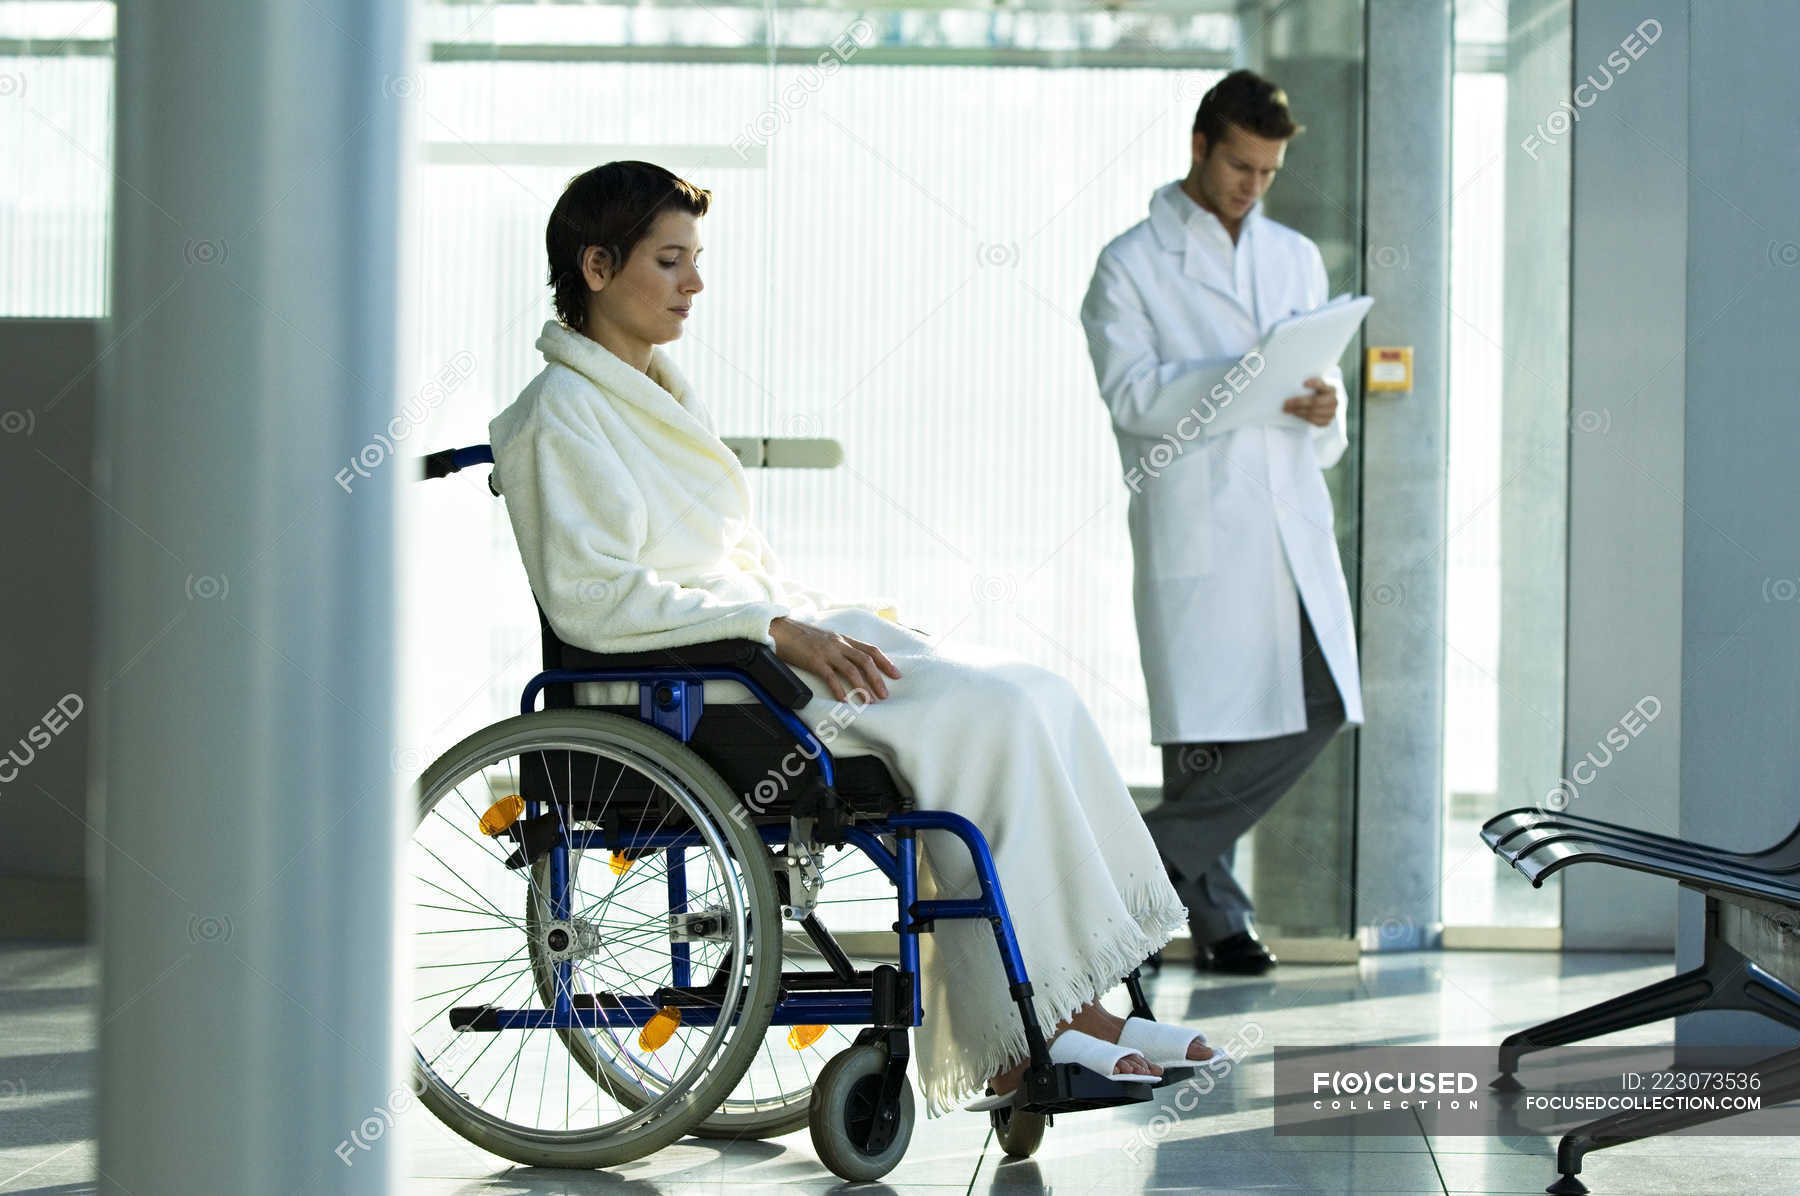wheelchair: (400, 160, 1213, 1177)
